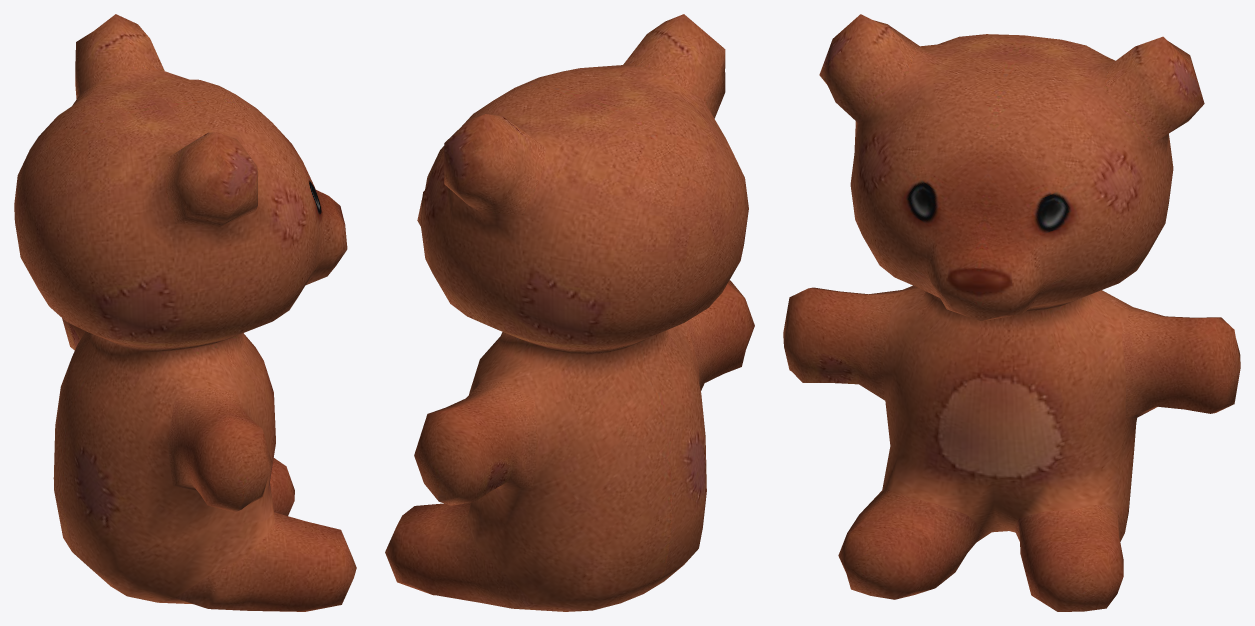
The model's file is teddy_bear.DAE.
3 views of the same model, side by side, from view 1: azimuth 30°, elevation 25°; view 2: azimuth 150°, elevation 25°; view 3: azimuth 270°, elevation 25° (orthographic). The views are drawn at different scales.
Visible parts, largest first — view 1: Box03; view 2: Box03; view 3: Box03.
Boxes of the visible parts, x1=… form: Box03: x1=14, y1=14, x2=356, y2=611; Box03: x1=385, y1=14, x2=754, y2=611; Box03: x1=783, y1=14, x2=1240, y2=611.
Size of the model in its own units: 108 by 144 by 182.
Materials: 1 (1 with a texture image).
